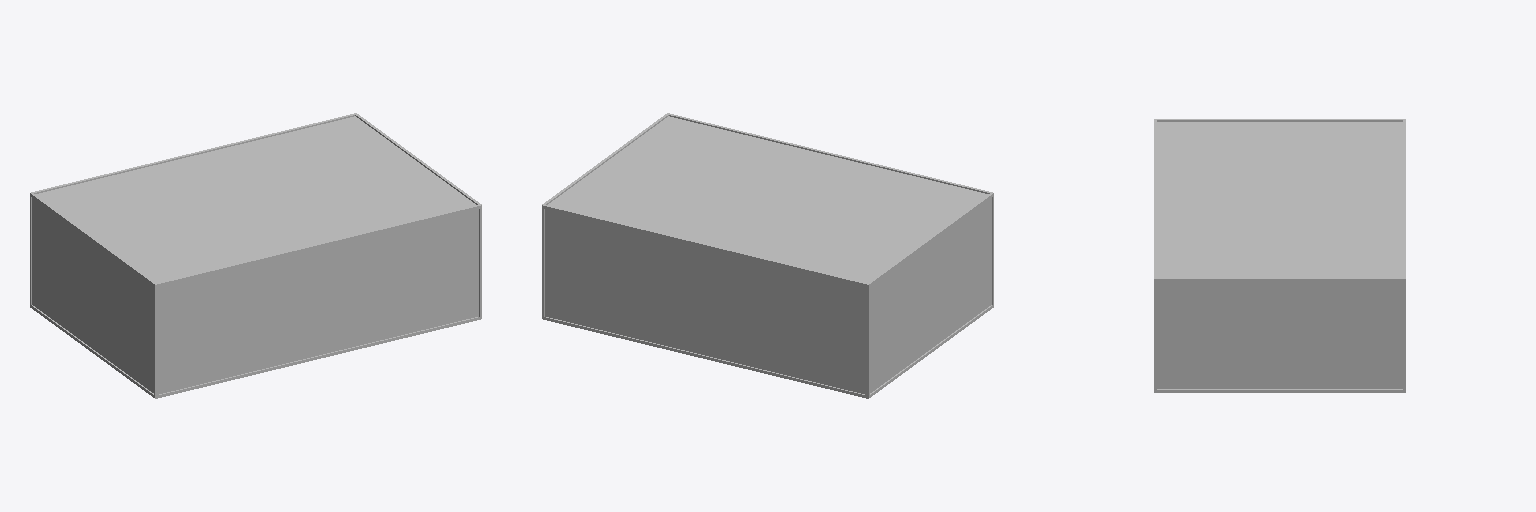
File: Par.obj
3 views of the same model, side by side, from view 1: azimuth 30°, elevation 25°; view 2: azimuth 150°, elevation 25°; view 3: azimuth 270°, elevation 25° (orthographic).
Visible parts, largest first — view 1: Mesh1 Model; view 2: Mesh1 Model; view 3: Mesh1 Model.
Boxes of the visible parts, x1=… form: Mesh1 Model: x1=30, y1=113, x2=481, y2=398; Mesh1 Model: x1=542, y1=113, x2=993, y2=398; Mesh1 Model: x1=1154, y1=119, x2=1405, y2=392.
Bounding box in the file's own units: 60 × 20 × 40.